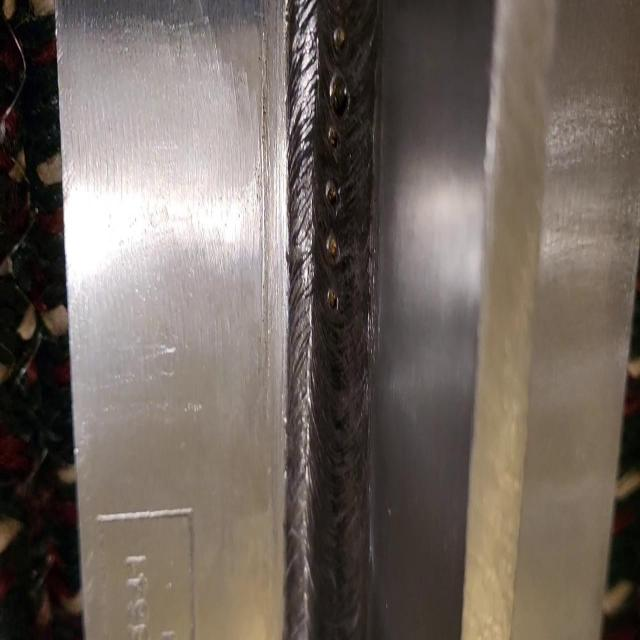Welding Line: (290, 7, 375, 640)
Workpiece: (74, 13, 600, 640)
porosity: (326, 23, 350, 315)
